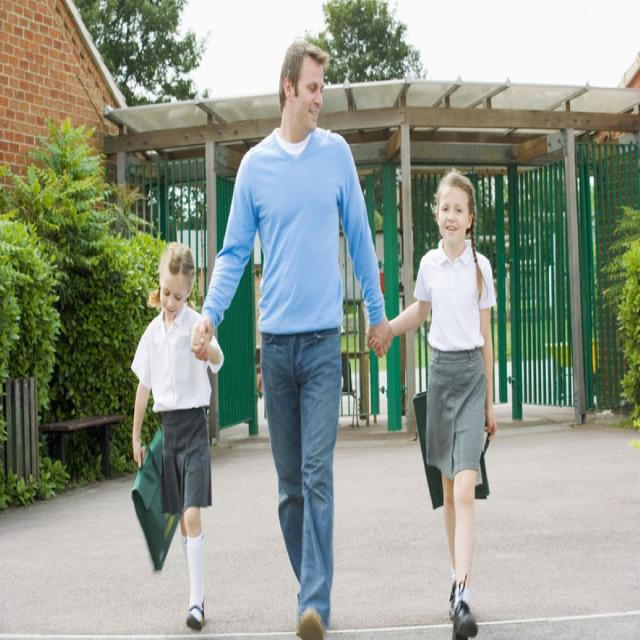Person: (191, 40, 392, 640), (370, 169, 497, 640), (131, 240, 225, 630)
